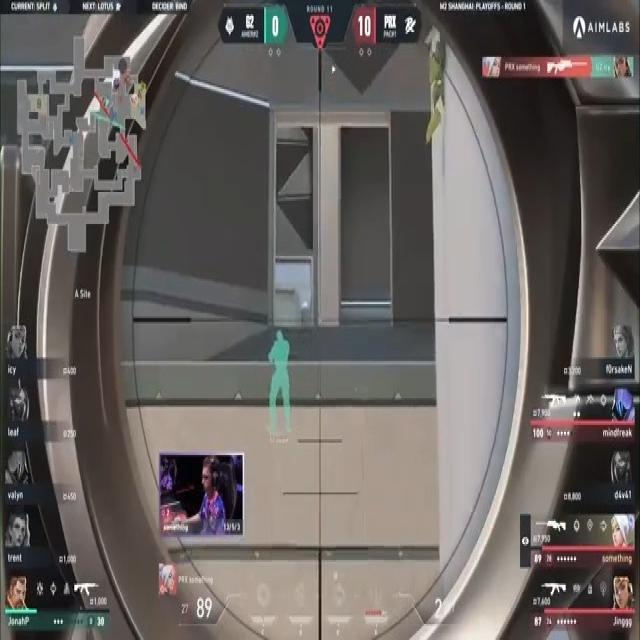ally behind wall: (268, 326, 296, 446)
